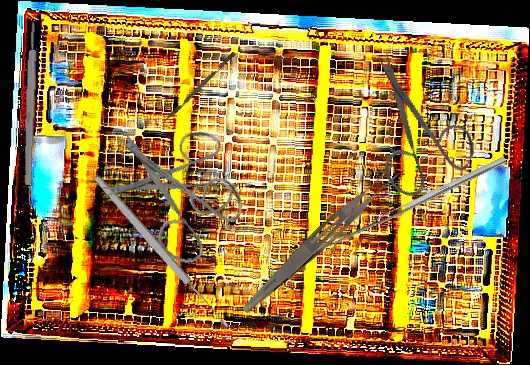Chopper: (157, 51, 240, 131)
Dressing Forceps: (238, 159, 405, 322)
Iris Scissors: (327, 48, 497, 215), (97, 103, 256, 262), (97, 127, 251, 271)
Scalpel Handle: (23, 21, 38, 186)
Spatula Surgical: (324, 156, 511, 257)
Surgical Spoon: (92, 173, 232, 332)
